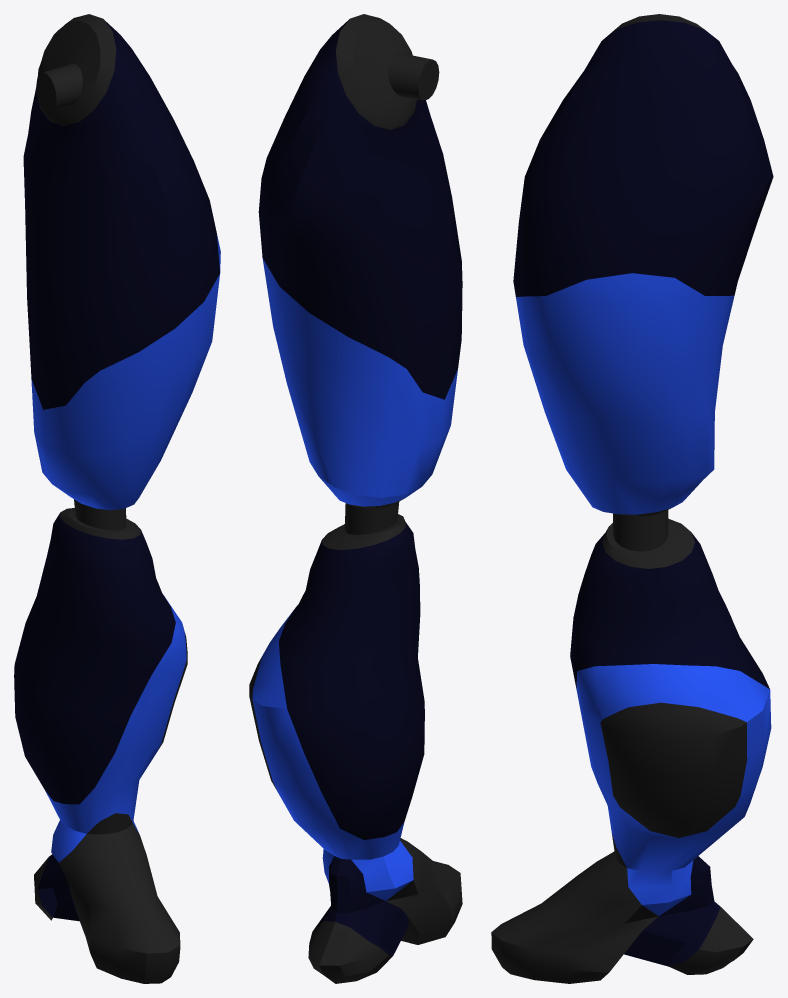
Rendered from PernaEsq_3.fbx.
3 views of the same model, side by side, from view 1: azimuth 30°, elevation 25°; view 2: azimuth 150°, elevation 25°; view 3: azimuth 270°, elevation 25° (orthographic). The views are drawn at different scales.
Parts seen in each view (by area): view 1: PernaEsq_3; view 2: PernaEsq_3; view 3: PernaEsq_3.
Part boxes in pixels (x1,y1,x2,y2): PernaEsq_3: (14, 14, 220, 983); PernaEsq_3: (249, 14, 462, 983); PernaEsq_3: (491, 14, 773, 983).
Size of the model in its own units: 33.23 by 174 by 46.4.
